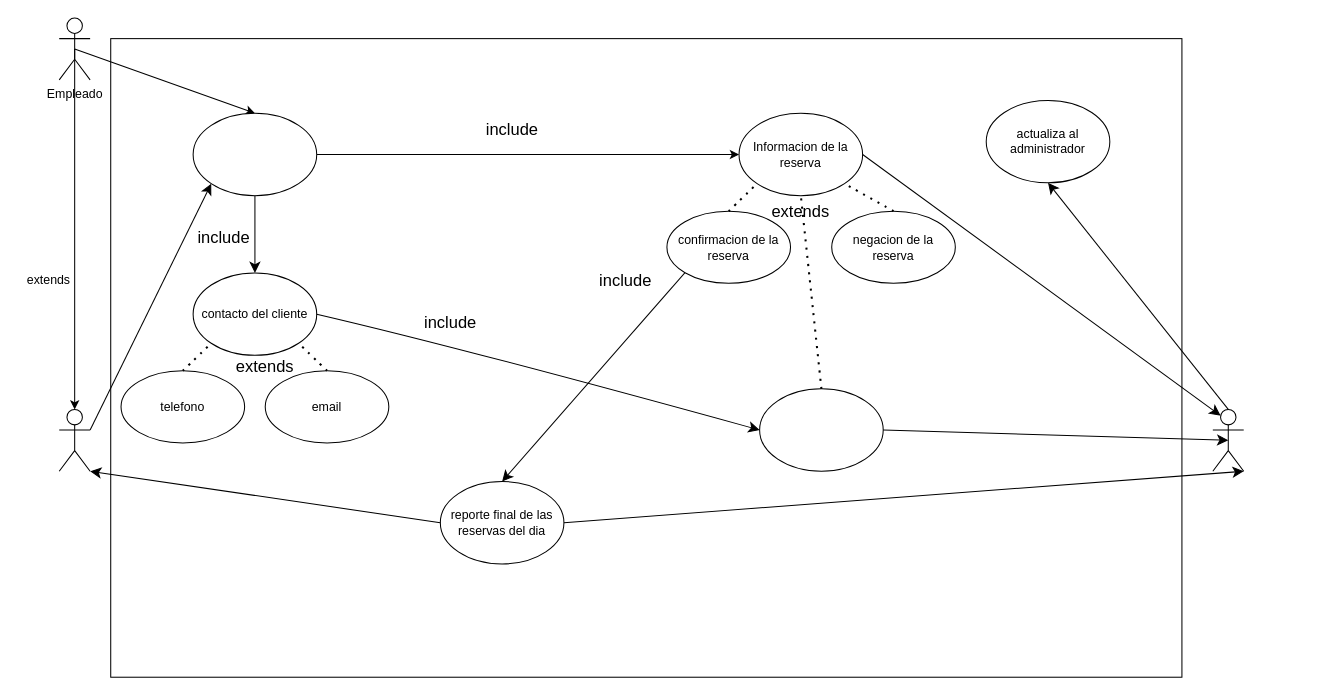
This 1334x695 diagram has some shape labels left out. Here are the shapes that lost their labels. From the top down, the centre of each, then its label:
(x=254, y=154): acceder a las reservas de los clientes
(x=74, y=439): Administrador
(x=821, y=429): cancelacion de reserva
(x=1228, y=439): Base de datos de reservaciones
